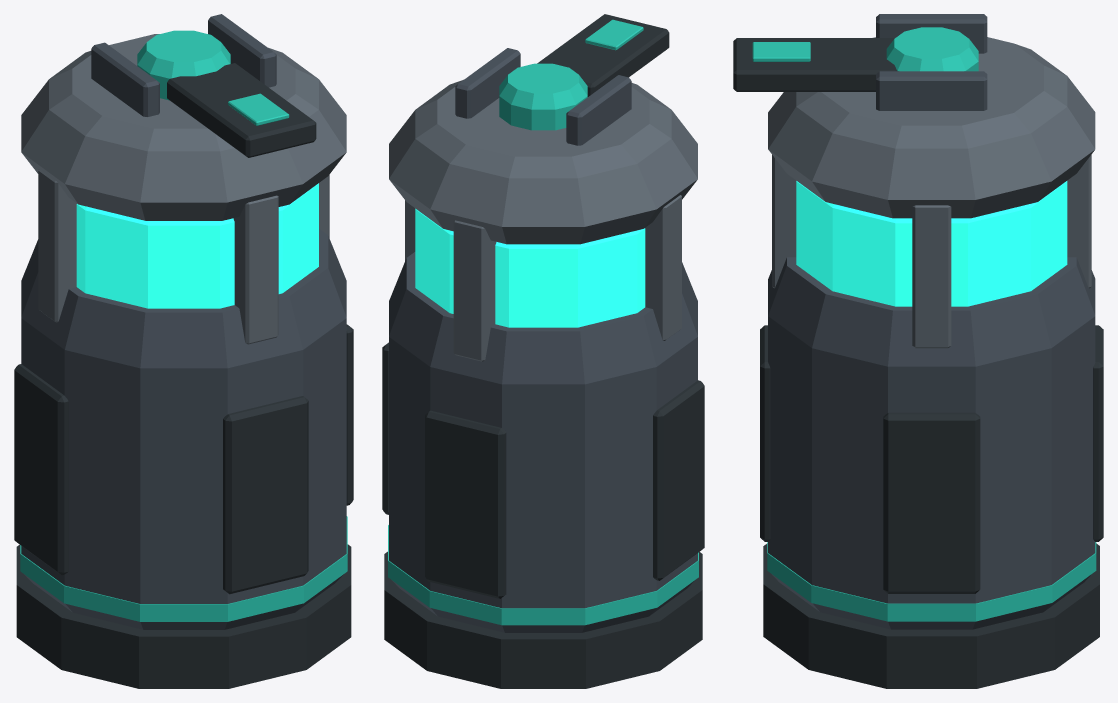
File: EMP_Grenade_01.glb
3 renders of one model, left to right at view 1: azimuth 30°, elevation 25°; view 2: azimuth 150°, elevation 25°; view 3: azimuth 270°, elevation 25°, orthographic. The views are drawn at different scales.
Visible parts, largest first — view 1: EMP_Grenade_Body, EMP_Grenade_Top_Cap, EMP_Grenade_Bottom_Cap, EMP_Grenade_Core, EMP_Grenade_Grip_Panel_4, EMP_Grenade_Grip_Panel_3, EMP_Grenade_Safety_Tab, EMP_Grenade_Accent_Band, EMP_Grenade_Core_Brace_4, EMP_Grenade_Core_Brace_3, EMP_Grenade_Button, EMP_Grenade_Switch_Guard_L (+4 smaller); view 2: EMP_Grenade_Body, EMP_Grenade_Top_Cap, EMP_Grenade_Bottom_Cap, EMP_Grenade_Core, EMP_Grenade_Grip_Panel_2, EMP_Grenade_Grip_Panel_3, EMP_Grenade_Accent_Band, EMP_Grenade_Core_Brace_2, EMP_Grenade_Button, EMP_Grenade_Safety_Tab, EMP_Grenade_Core_Brace_3, EMP_Grenade_Switch_Guard_L (+4 smaller); view 3: EMP_Grenade_Body, EMP_Grenade_Top_Cap, EMP_Grenade_Bottom_Cap, EMP_Grenade_Core, EMP_Grenade_Grip_Panel_1, EMP_Grenade_Safety_Tab, EMP_Grenade_Accent_Band, EMP_Grenade_Core_Brace_1, EMP_Grenade_Switch_Guard_R, EMP_Grenade_Button, EMP_Grenade_Core_Brace_2, EMP_Grenade_Core_Brace_4 (+4 smaller).
Boxes of the visible parts, x1=… form: EMP_Grenade_Body: x1=21, y1=229, x2=346, y2=629; EMP_Grenade_Top_Cap: x1=21, y1=34, x2=346, y2=220; EMP_Grenade_Bottom_Cap: x1=16, y1=544, x2=351, y2=688; EMP_Grenade_Core: x1=76, y1=183, x2=318, y2=308; EMP_Grenade_Grip_Panel_4: x1=223, y1=396, x2=308, y2=594; EMP_Grenade_Grip_Panel_3: x1=14, y1=364, x2=68, y2=575; EMP_Grenade_Safety_Tab: x1=167, y1=63, x2=316, y2=157; EMP_Grenade_Accent_Band: x1=20, y1=516, x2=347, y2=621; EMP_Grenade_Core_Brace_4: x1=233, y1=195, x2=278, y2=344; EMP_Grenade_Core_Brace_3: x1=38, y1=169, x2=76, y2=322; EMP_Grenade_Button: x1=137, y1=30, x2=230, y2=100; EMP_Grenade_Switch_Guard_L: x1=91, y1=42, x2=159, y2=116; EMP_Grenade_Body: x1=389, y1=252, x2=697, y2=632; EMP_Grenade_Top_Cap: x1=389, y1=79, x2=697, y2=244; EMP_Grenade_Bottom_Cap: x1=384, y1=551, x2=702, y2=688; EMP_Grenade_Core: x1=415, y1=208, x2=645, y2=327; EMP_Grenade_Grip_Panel_2: x1=425, y1=410, x2=506, y2=598; EMP_Grenade_Grip_Panel_3: x1=653, y1=380, x2=704, y2=580; EMP_Grenade_Accent_Band: x1=388, y1=525, x2=698, y2=625; EMP_Grenade_Core_Brace_2: x1=453, y1=220, x2=496, y2=361; EMP_Grenade_Button: x1=499, y1=63, x2=587, y2=130; EMP_Grenade_Safety_Tab: x1=537, y1=14, x2=669, y2=96; EMP_Grenade_Core_Brace_3: x1=645, y1=195, x2=681, y2=340; EMP_Grenade_Switch_Guard_L: x1=566, y1=75, x2=631, y2=145; EMP_Grenade_Body: x1=768, y1=257, x2=1095, y2=629; EMP_Grenade_Top_Cap: x1=768, y1=37, x2=1095, y2=218; EMP_Grenade_Bottom_Cap: x1=763, y1=543, x2=1099, y2=688; EMP_Grenade_Core: x1=796, y1=181, x2=1067, y2=306; EMP_Grenade_Grip_Panel_1: x1=883, y1=412, x2=980, y2=593; EMP_Grenade_Safety_Tab: x1=733, y1=38, x2=896, y2=91; EMP_Grenade_Accent_Band: x1=767, y1=542, x2=1096, y2=621; EMP_Grenade_Core_Brace_1: x1=912, y1=205, x2=951, y2=348; EMP_Grenade_Switch_Guard_R: x1=876, y1=71, x2=987, y2=110; EMP_Grenade_Button: x1=886, y1=27, x2=978, y2=71; EMP_Grenade_Core_Brace_2: x1=1067, y1=155, x2=1091, y2=288; EMP_Grenade_Core_Brace_4: x1=772, y1=155, x2=796, y2=288.
Size of the model in its own units: 0.071 by 0.135 by 0.0765.
